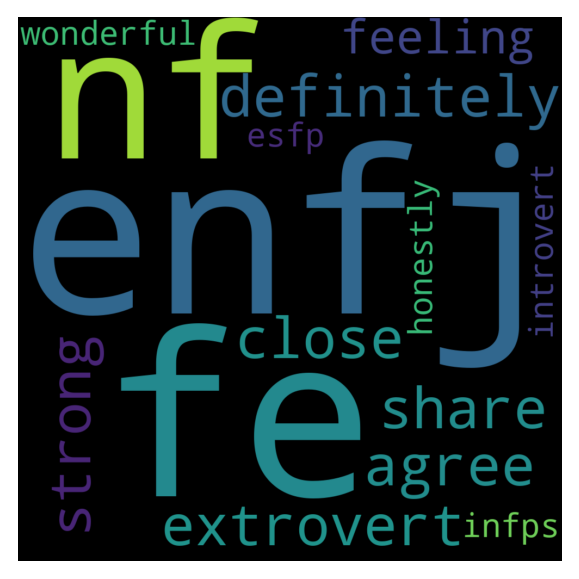

This screenshot's page, from the dashboard's own definition file:
{"tool":"tableau","page":{"name":"Dashboard 1","canvas":[1000,800],"ordinal":0},"visuals":[{"type":"worksheet","title":"Topics","mark":"Automatic","box":[74,14,886,777]},{"type":"worksheet","title":"Topics","mark":"Automatic","param":"[federated.0f70d2m07pqro519ml5wd1i6v16a].[none:type:nk]","box":[10,18,72,40]}]}

Visuals, with their boxes in screenshot pixels (x1, y1, x2, y2):
"Topics" worksheet: 17 82 561 559
"Topics" worksheet: 0 85 22 109
